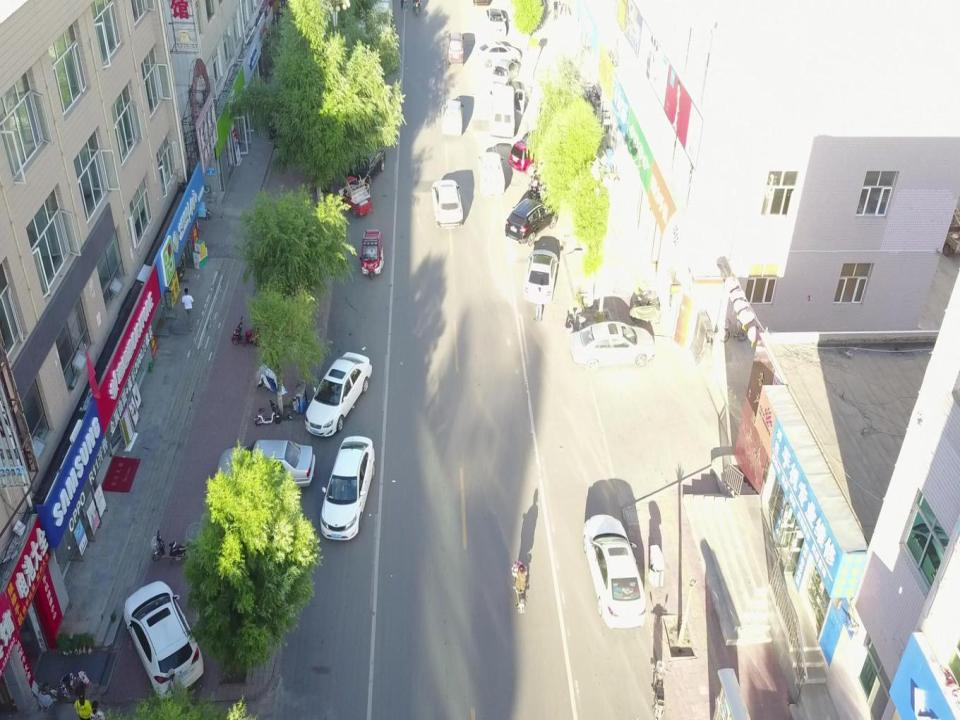car: (122, 580, 204, 700), (582, 514, 646, 630), (319, 436, 376, 540), (304, 351, 372, 437), (215, 439, 316, 488), (568, 320, 656, 370), (505, 197, 558, 246), (523, 249, 559, 303), (345, 143, 387, 188), (430, 178, 464, 229), (509, 138, 552, 174), (476, 41, 522, 69), (478, 152, 505, 198), (440, 99, 464, 136), (492, 58, 519, 86), (485, 7, 507, 36)
van: (489, 84, 525, 138), (446, 31, 464, 66)
